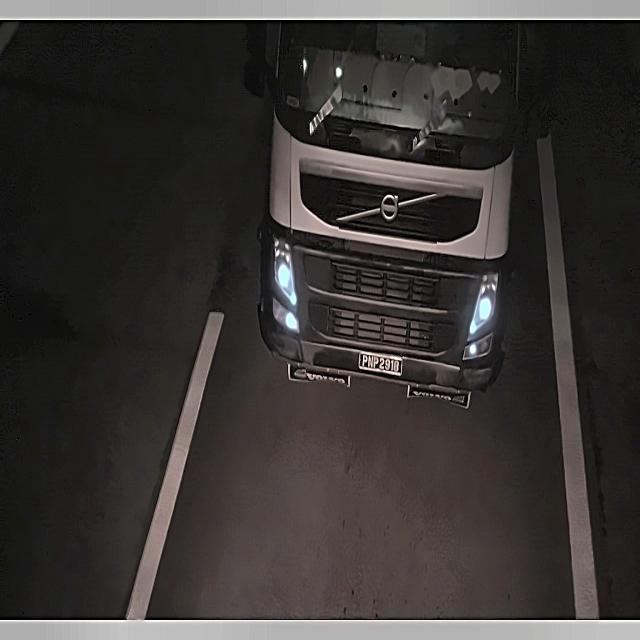car: (354, 347, 408, 379)
